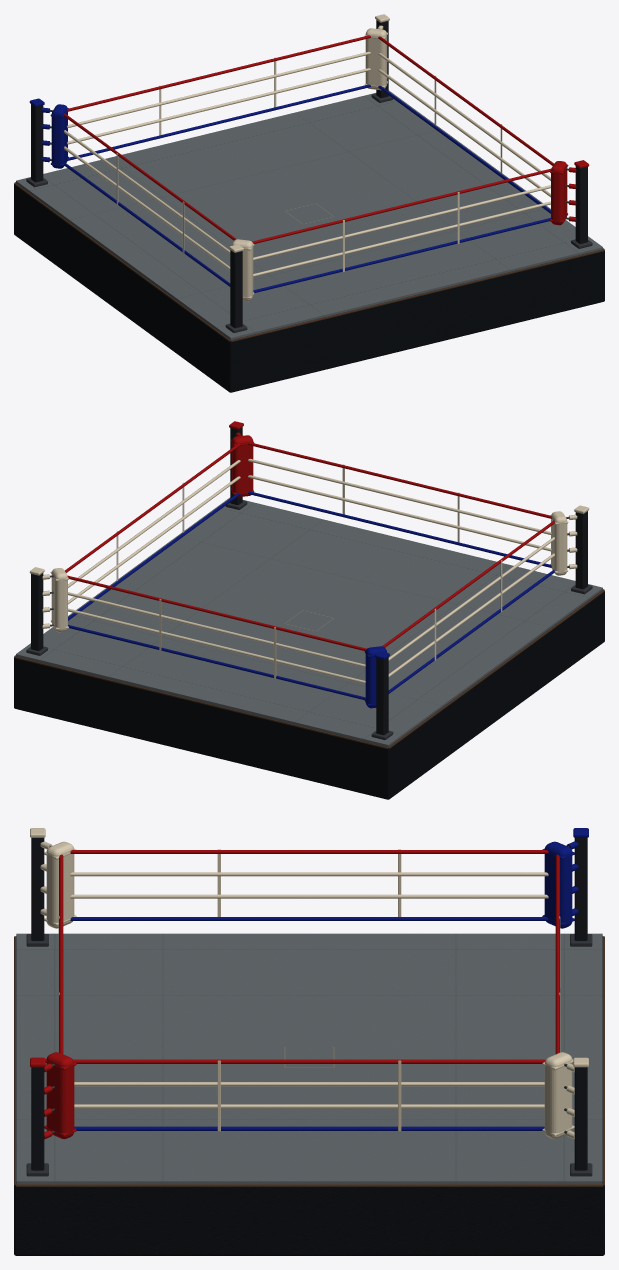
The model's file is ring.glb.
3 views of the same model, one above another, from view 1: azimuth 30°, elevation 25°; view 2: azimuth 150°, elevation 25°; view 3: azimuth 270°, elevation 25° (orthographic). The views are drawn at different scales.
Visible parts, largest first — view 1: BoxingRing; view 2: BoxingRing; view 3: BoxingRing.
Part boxes in pixels (x1,y1,x2,y2): BoxingRing: (14, 14, 604, 392); BoxingRing: (14, 421, 604, 799); BoxingRing: (14, 828, 604, 1255).
Size of the model in its own units: 7.2 by 2.5 by 7.2.
Materials: 2 (2 with a texture image).
